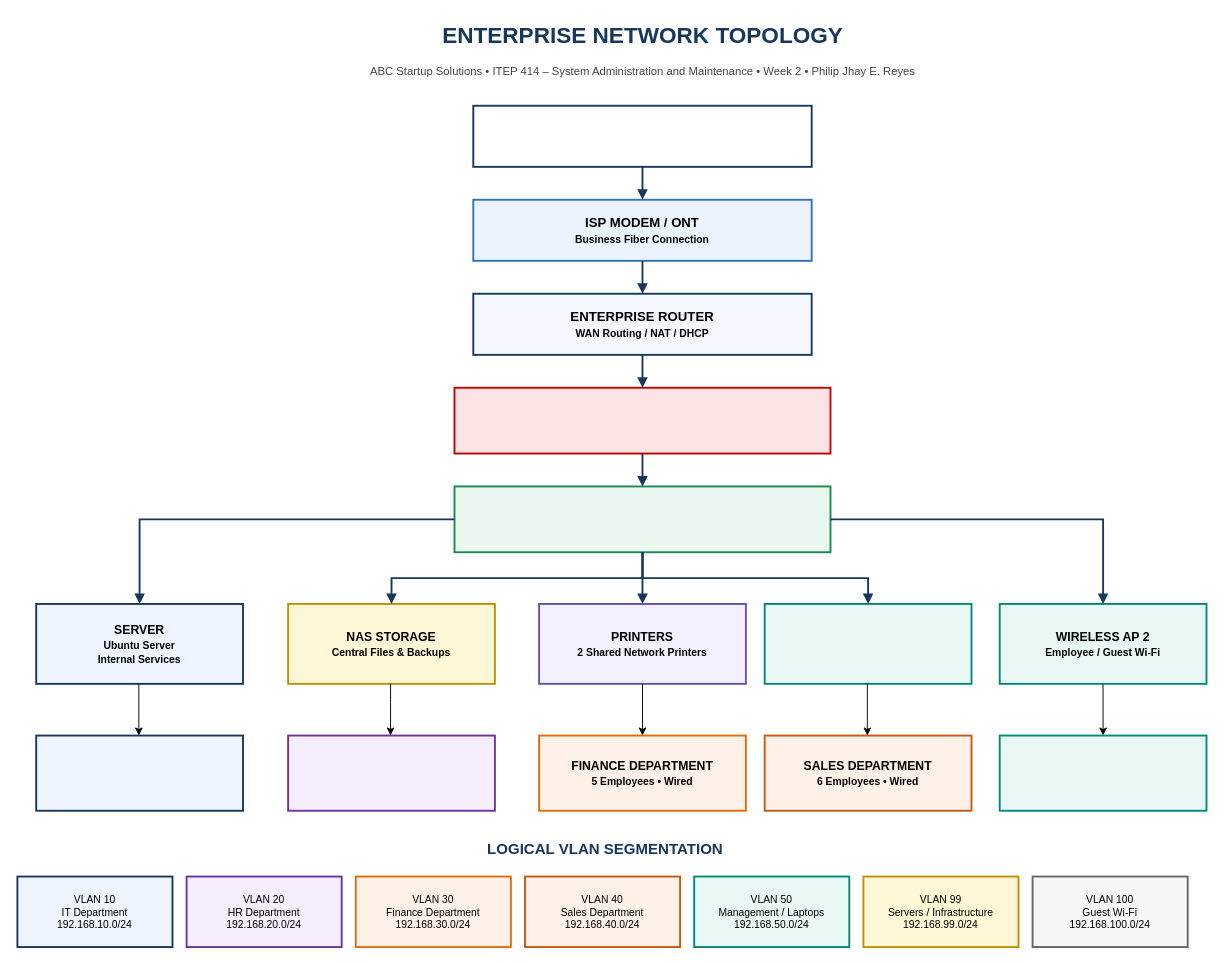
Image size: 1223x964. Some labels were removed from this diagram. Each missing label, with the centre of its shape:
"24-PORT MANAGED SWITCH Gigabit • VLAN Capable" goes at (x=642, y=519).
"HR DEPARTMENT 4 Employees • Wired" goes at (x=391, y=772).
"INTERNET Public Internet" goes at (x=642, y=135).
"IT / MANAGEMENT 5 Business Laptops • Wi-Fi / Wired" goes at (x=1102, y=772).
"IT DEPARTMENT 5 Employees • Wired" goes at (x=139, y=772).
"NEXT-GENERATION FIREWALL Filtering • VPN • Security Policies" goes at (x=642, y=420).
"WIRELESS AP 1 Employee / Guest Wi-Fi" goes at (x=867, y=643).
